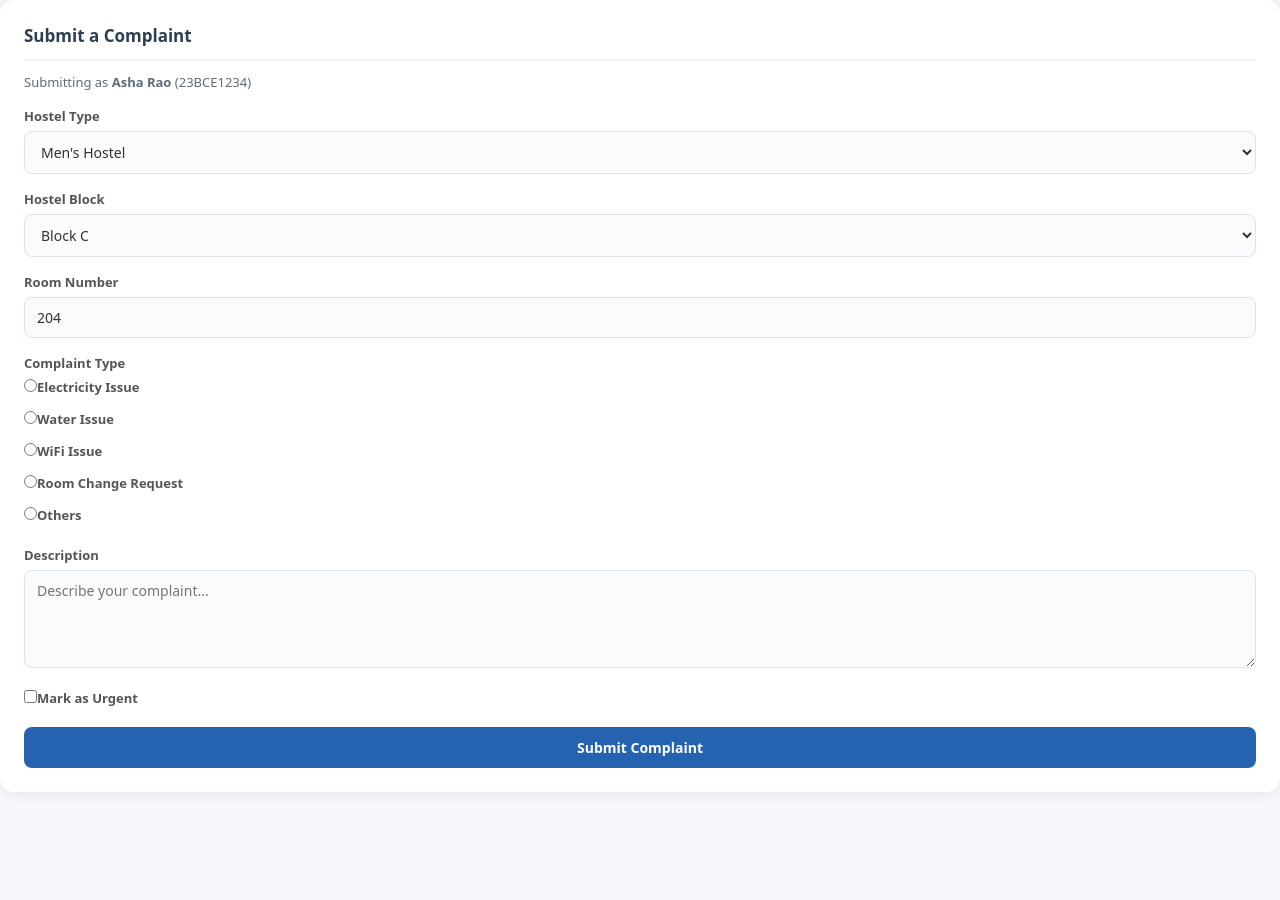
it: ComplaintForm › shows the error message when addComplaint rejects
Click the radio button labelled "Water Issue".
click(30, 418)  # box [24,411,37,424]
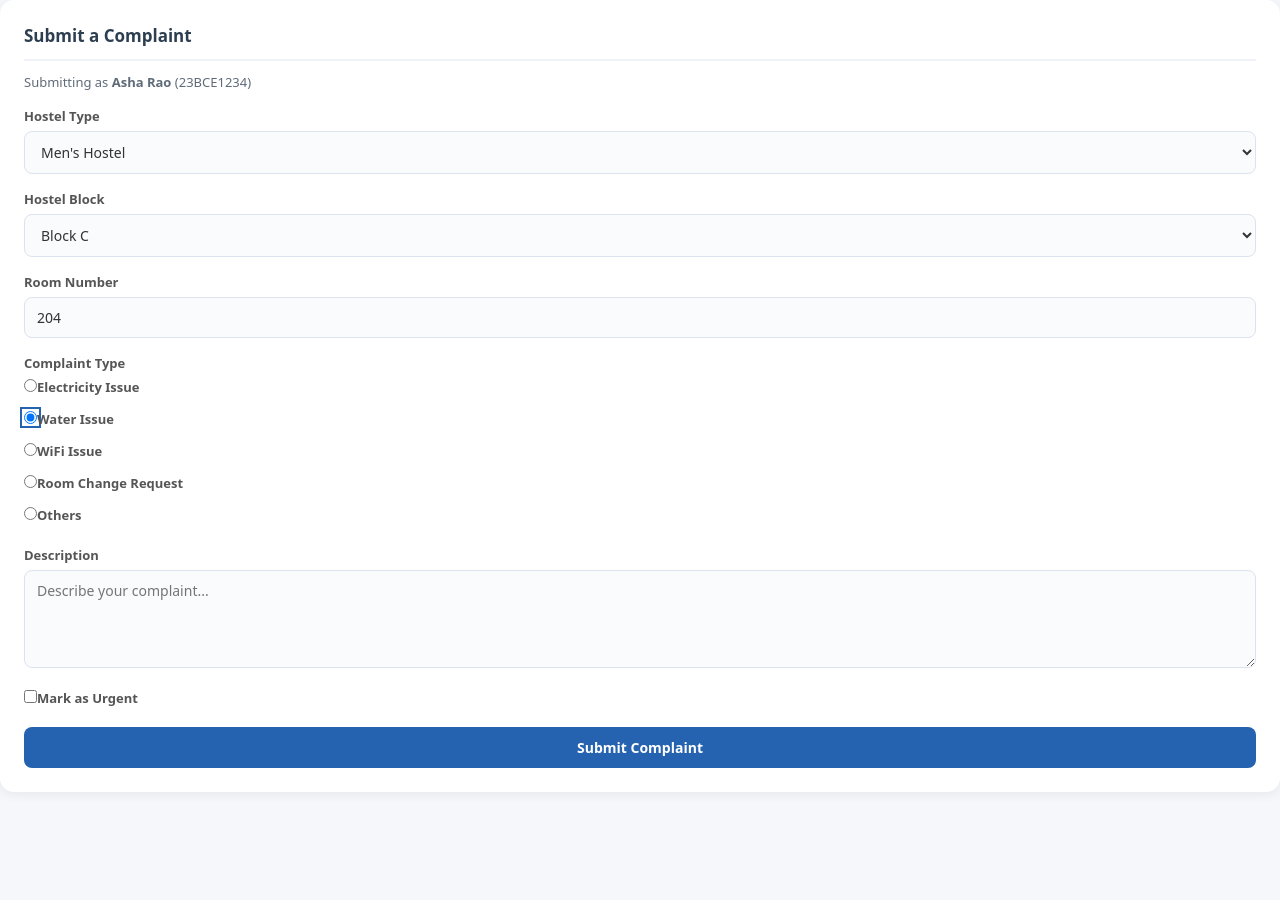
Type "Leaking tap" into the text box labelled "Description".
click(640, 619); type("Leaking tap")  # box [24,570,1256,668]
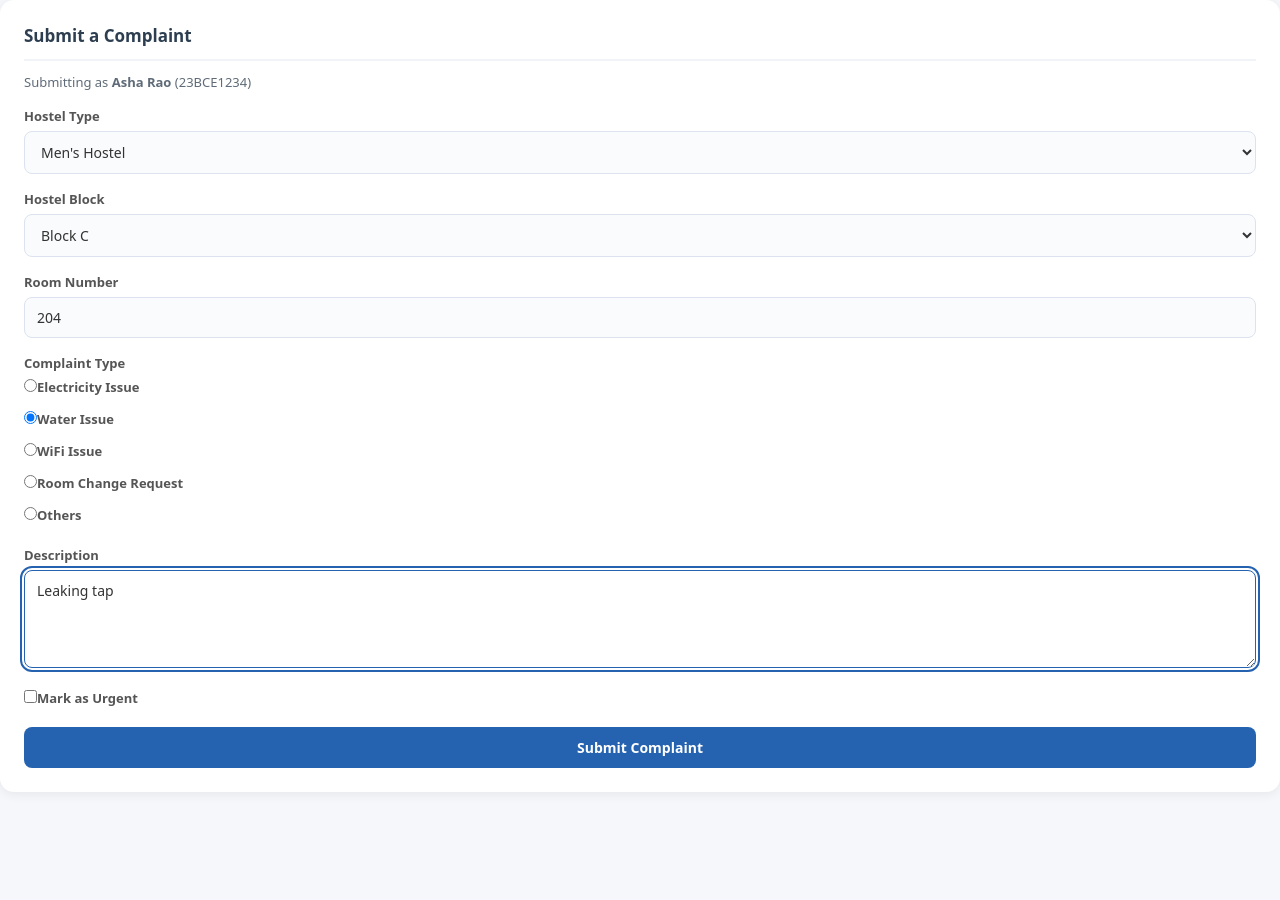
Click the button "Submit Complaint".
click(640, 748)  # box [24,727,1256,768]
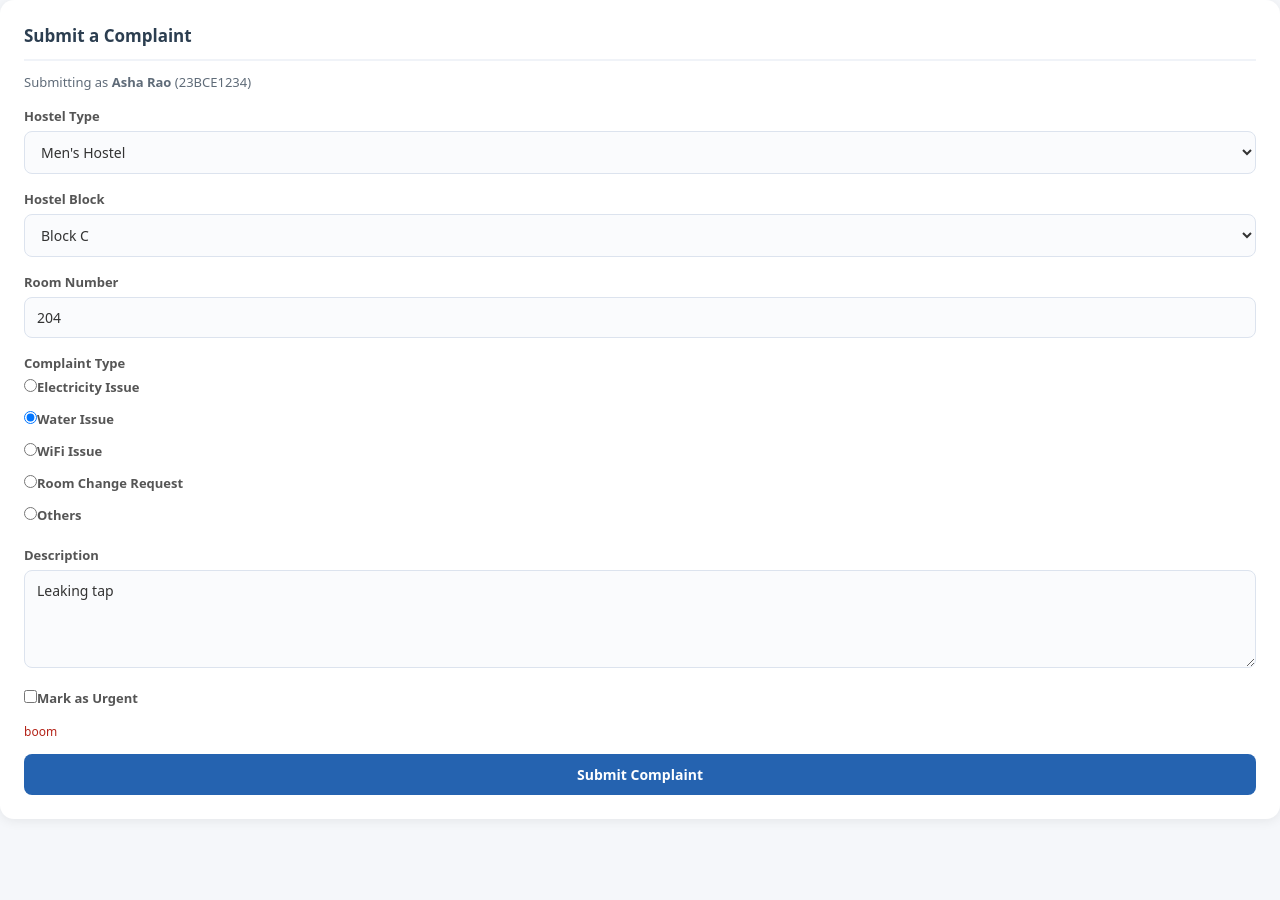
Expected: the button "Submit Complaint" is enabled, [24,754,1256,795]
Expected: the message reads "boom", [24,723,57,740]
